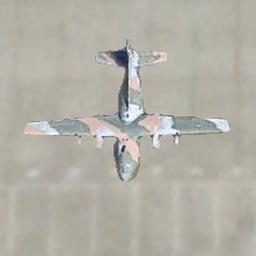Airplane: (23, 41, 236, 185)
